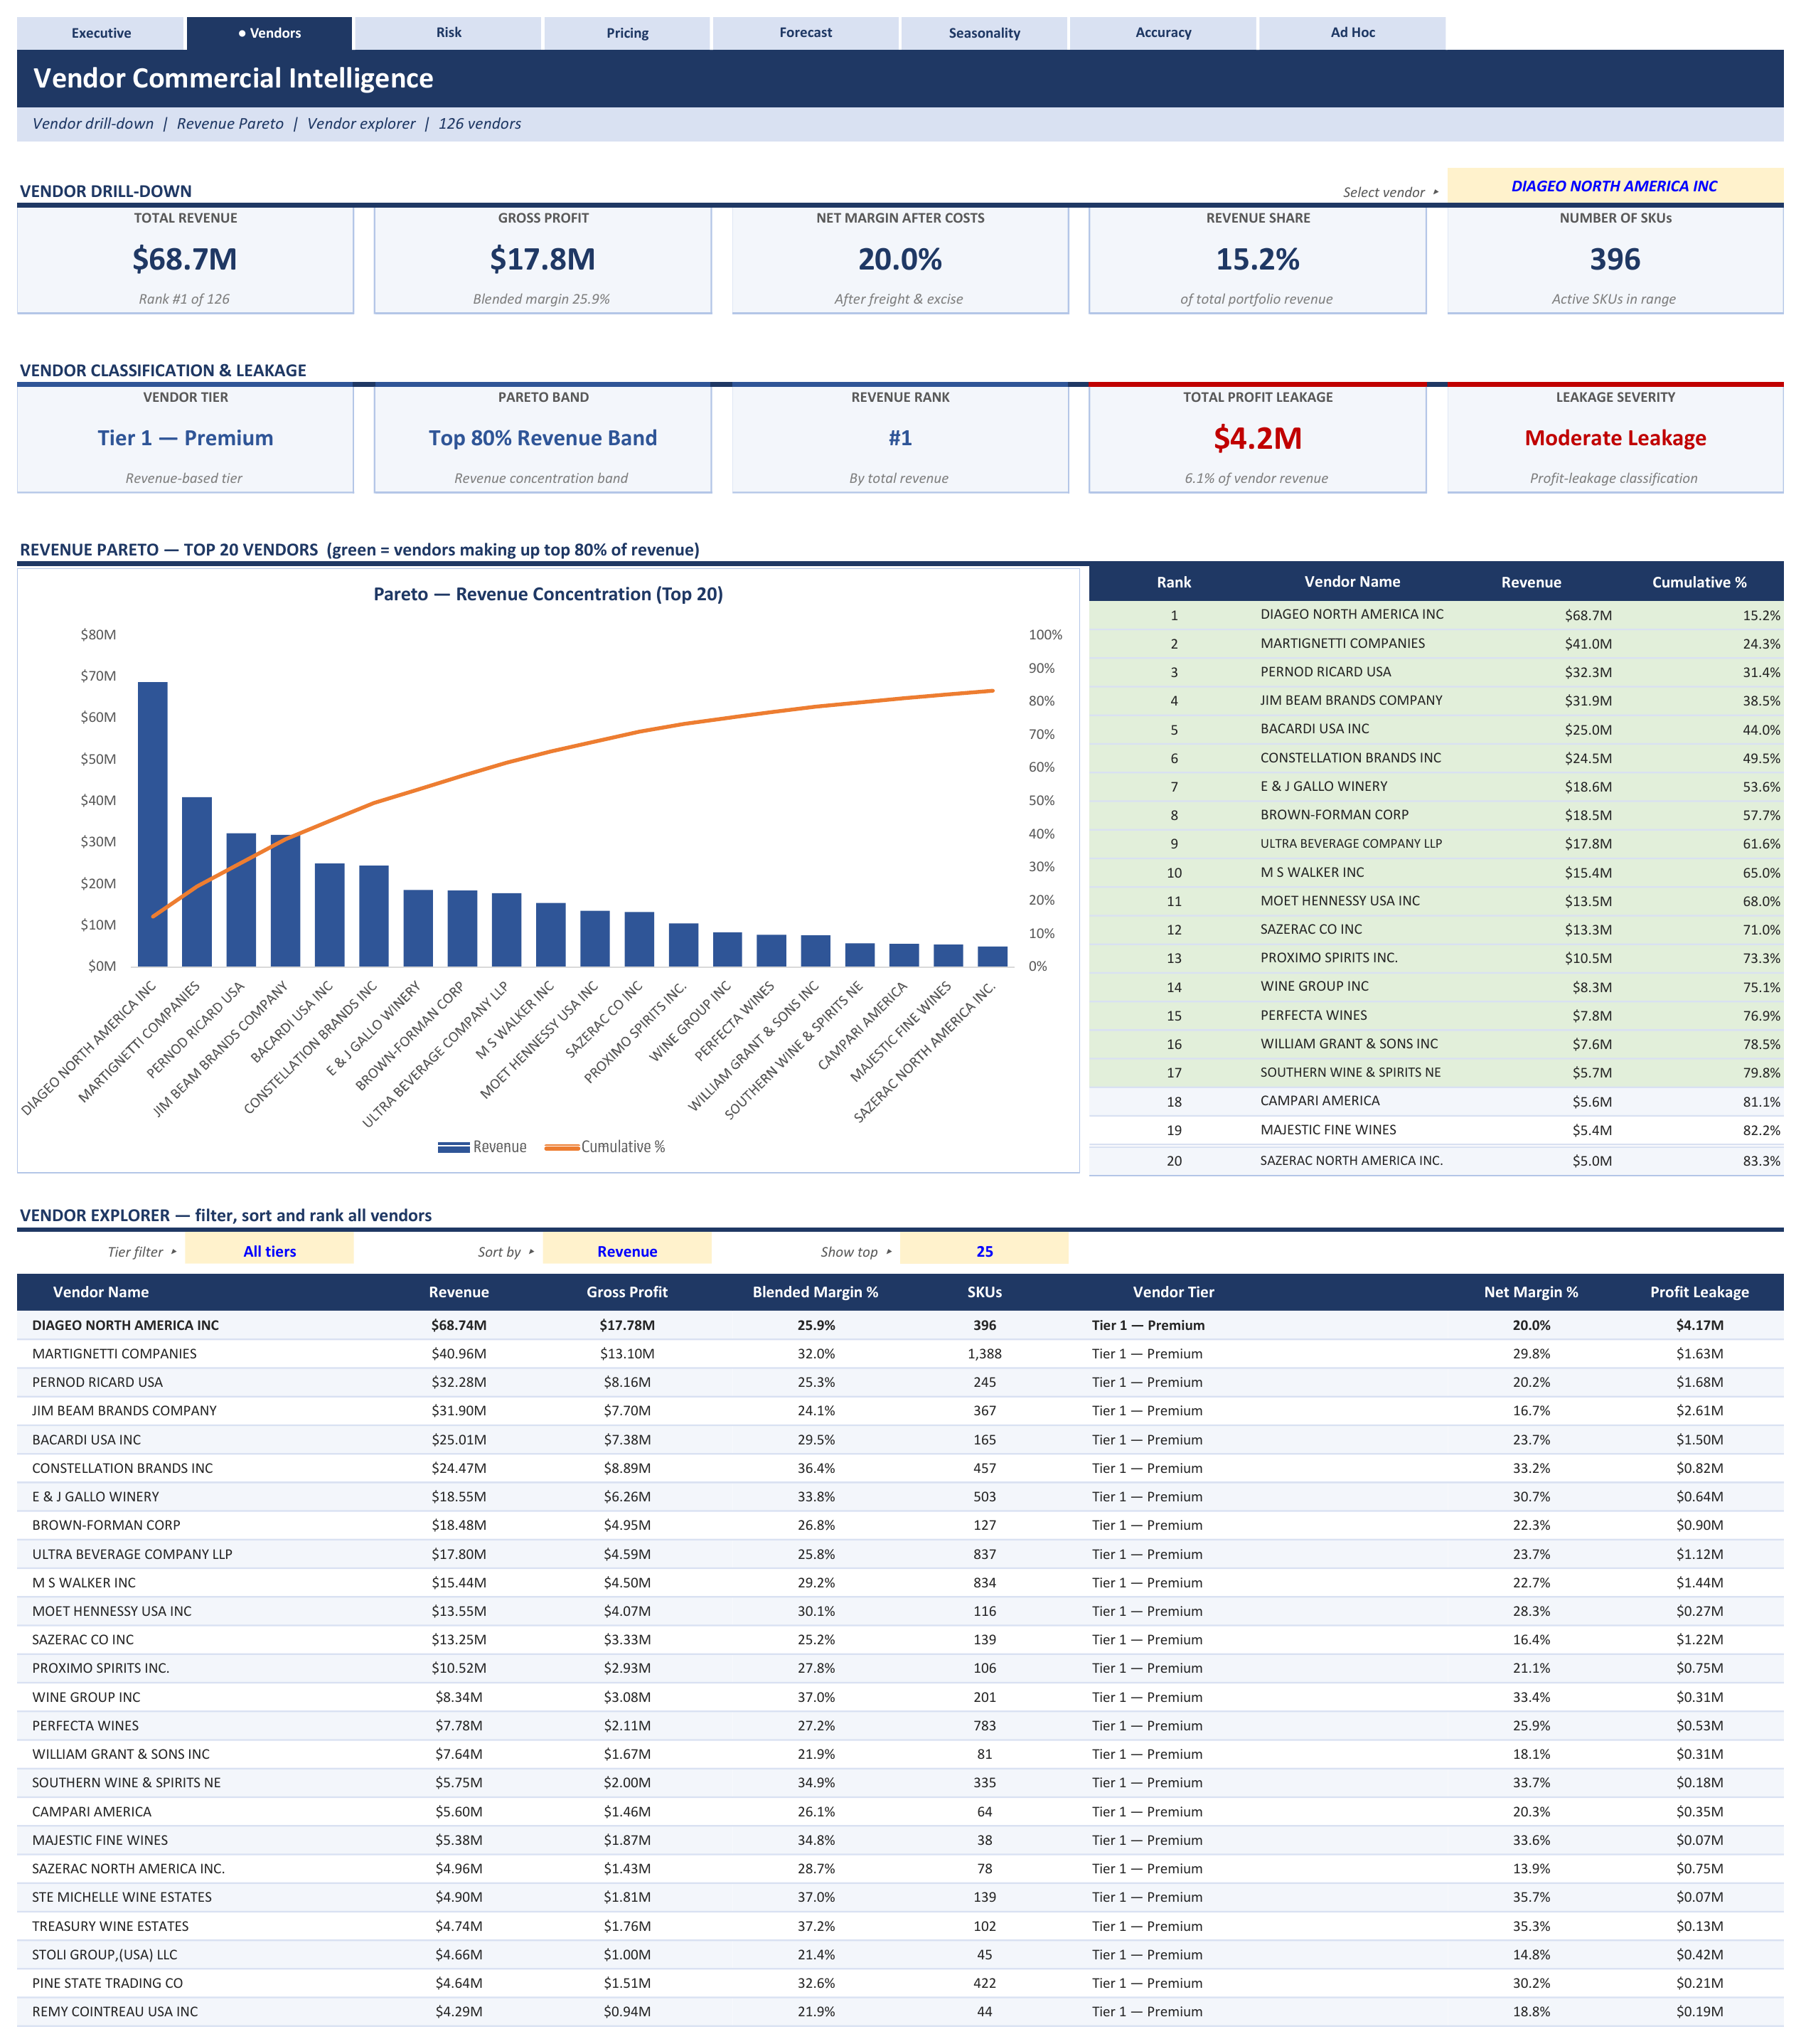

This screenshot's page, from the dashboard's own definition file:
{"tool":"powerbi","page":{"name":"Commercial Deep Dive","canvas":[1920,1080],"ordinal":1},"visuals":[{"type":"tableEx","title":"Vendor Commercial Summary","fields":{"Values":["vw_LogisticsCostSummary.VendorName","Sum(vw_LogisticsCostSummary.TotalRevenue)","Sum(vw_LogisticsCostSummary.TotalExciseTax)","Sum(vw_LogisticsCostSummary.TotalFreight)","Sum(vw_FullCostAnalysis.TotalGrossProfit)","Sum(vw_LogisticsCostSummary.TotalSKUs)","Vendor_Revenue.AvgMarginPct","Vendor_Tiering.TierLabel"]},"box":[1036,0,884,540],"z":0},{"type":"lineClusteredColumnComboChart","title":"Pareto Analysis - Revenue Concentration","fields":{"Category":["Pareto_Analysis.VendorName"],"Y":["_Revenue Measures.Total Revenue"],"Y2":["Sum(Pareto_Analysis.CumulativeRevenuePct)"]},"box":[0,196,1014,884],"z":1000},{"type":"card","fields":{"Values":["_Logistics and Cost Measures.Total Freight Cost"]},"box":[0,0,304,120],"z":2000},{"type":"card","fields":{"Values":["_Logistics and Cost Measures.Total Excise Tax"]},"box":[322,0,300,120],"z":3000},{"type":"card","fields":{"Values":["_Logistics and Cost Measures.Avg Net Margin After All Costs %"]},"box":[644,0,370,120],"z":4000},{"type":"decompositionTreeVisual","fields":{"Analyze":["_Commercial_Measures.Profit Leakage"],"ExplainBy":["Vendor_Tiering.TotalRevenue","Vendor_Tiering.TotalProfit","Vendor_Tiering.SKUCount","Vendor_Tiering.VendorName","Vendor_Tiering.AvgMargin"]},"box":[1036,562,884,518],"z":5000}]}

Visuals, with their boxes on the page's 1920x1080 design canvas (x1, y1, x2, y2). These are canvas units, not pixel positions in the 1801x2044 screenshot, which may show the page scaled, cropped or inside an application window:
"Vendor Commercial Summary" tableEx: Rect(1036, 0, 1920, 540)
"Pareto Analysis - Revenue Concentration" lineClusteredColumnComboChart: Rect(0, 196, 1014, 1080)
card - _Logistics and Cost Measures.Total Freight Cost: Rect(0, 0, 304, 120)
card - _Logistics and Cost Measures.Total Excise Tax: Rect(322, 0, 622, 120)
card - _Logistics and Cost Measures.Avg Net Margin After All Costs %: Rect(644, 0, 1014, 120)
decompositionTreeVisual - _Commercial_Measures.Profit Leakage x Vendor_Tiering.TotalRevenue: Rect(1036, 562, 1920, 1080)
